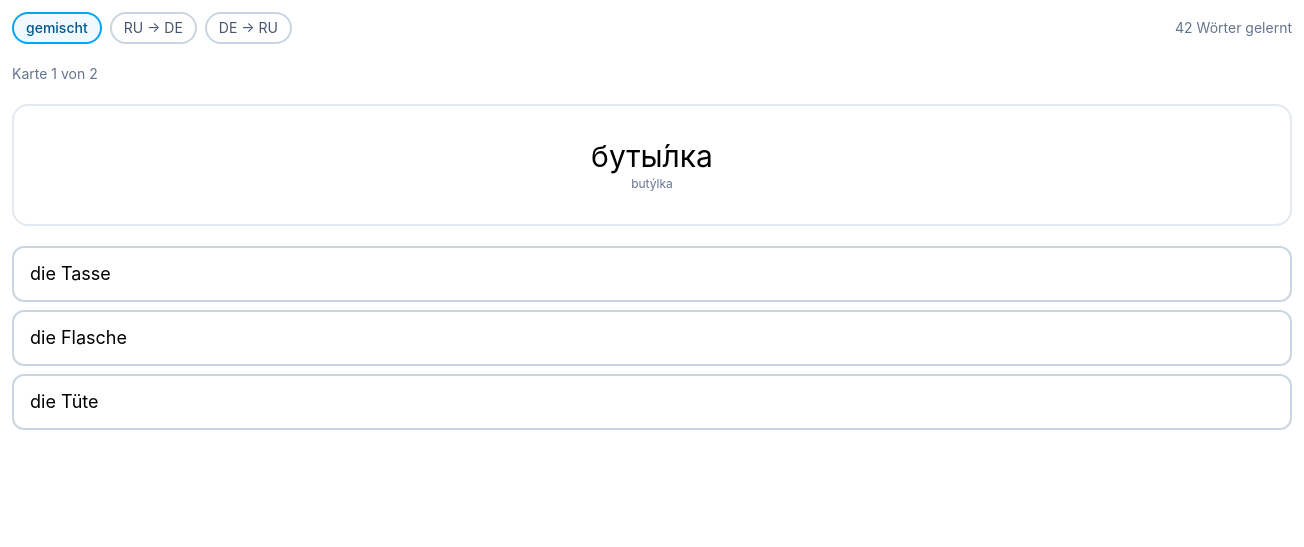
FlashcardsView › meldet die richtige Antwort und geht weiter zur nächsten Karte
Click the button "die Flasche" at (78, 337), box [12,310,1292,366]
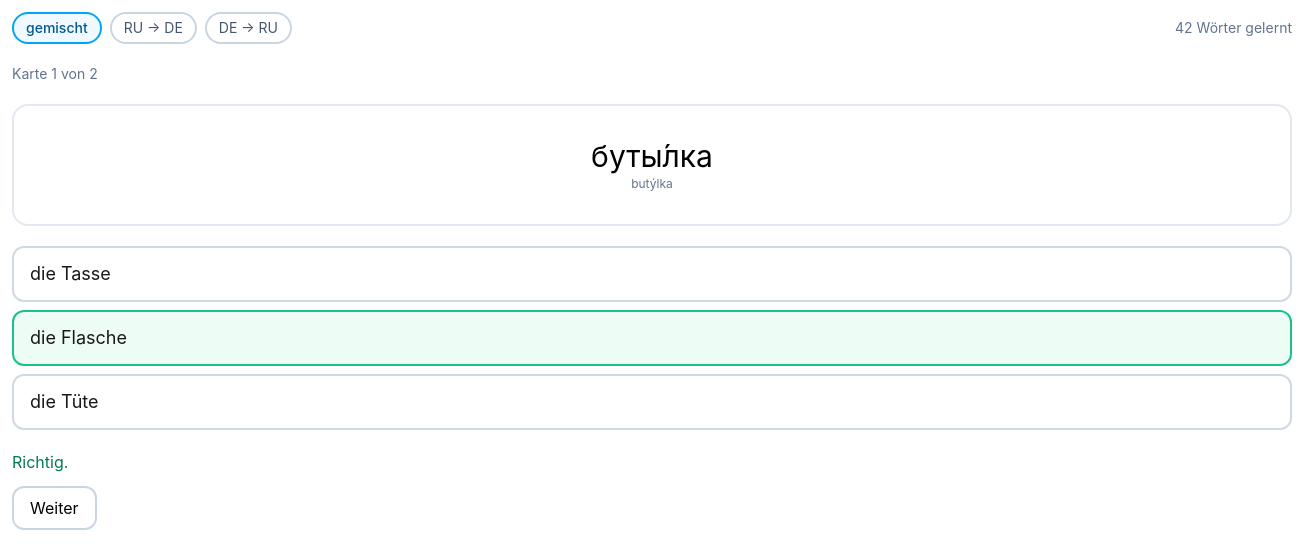
expect the text "Richtig." is shown: met, box [12,452,68,472]
Click the button "Weiter" at (54, 508), box [12,486,97,530]
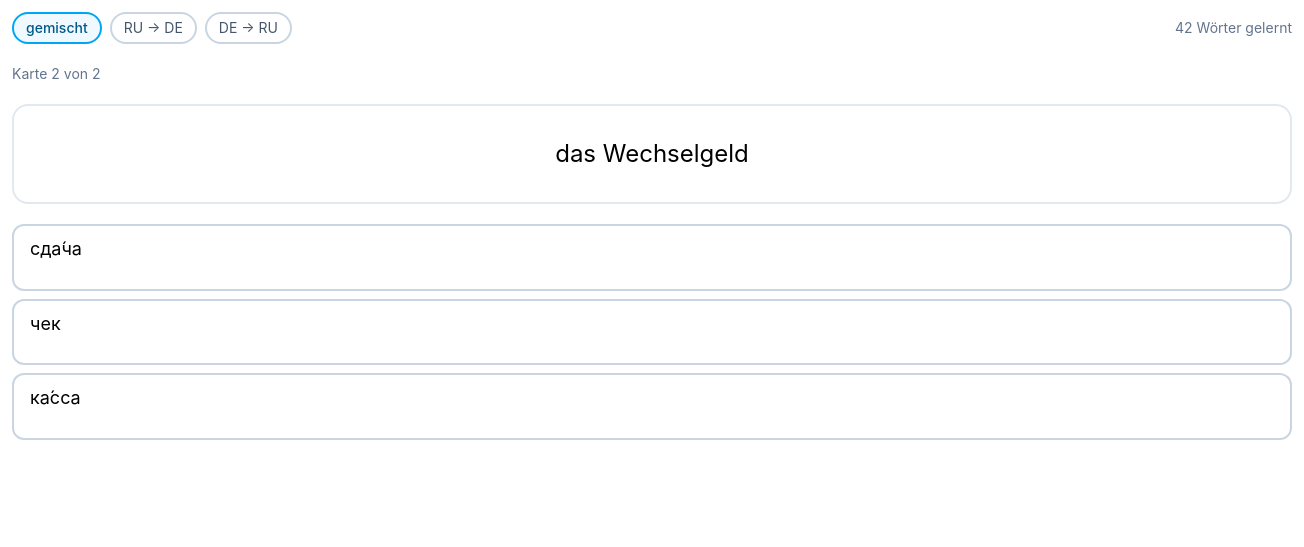
expect the text "das Wechselgeld" is shown: met, box [555,138,749,170]
